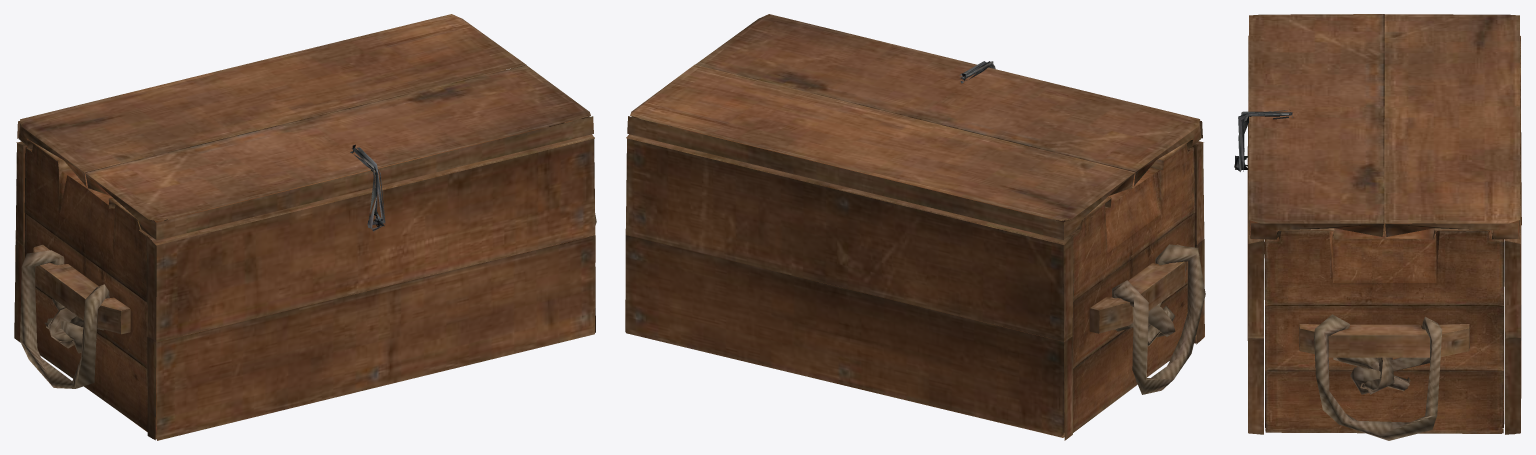
The model's file is wooden_crate_01_lod.glb.
3 renders of one model, left to right at view 1: azimuth 30°, elevation 25°; view 2: azimuth 150°, elevation 25°; view 3: azimuth 270°, elevation 25°, orthographic. The views are drawn at different scales.
Parts seen in each view (by area): view 1: wooden_crate_01, wooden_crate_01_lid, wooden_crate_01_latch; view 2: wooden_crate_01, wooden_crate_01_lid; view 3: wooden_crate_01_lid, wooden_crate_01, wooden_crate_01_latch.
Boxes of the visible parts, bbox=[...] form: wooden_crate_01: bbox=[14, 120, 596, 440]; wooden_crate_01_lid: bbox=[17, 14, 593, 240]; wooden_crate_01_latch: bbox=[350, 147, 385, 231]; wooden_crate_01: bbox=[625, 134, 1205, 440]; wooden_crate_01_lid: bbox=[627, 14, 1202, 239]; wooden_crate_01_lid: bbox=[1249, 14, 1519, 239]; wooden_crate_01: bbox=[1234, 35, 1521, 440]; wooden_crate_01_latch: bbox=[1238, 110, 1292, 171].
Size of the model in its own units: 0.8222 by 0.3466 by 0.4075.
1 material, 1 textured.
